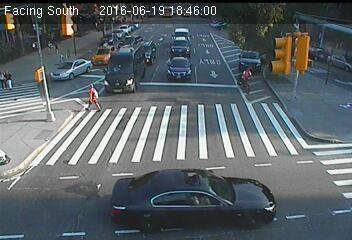neg: (232, 61, 258, 96), (178, 171, 201, 201), (291, 24, 309, 49), (265, 142, 283, 166), (171, 24, 188, 47), (7, 114, 22, 134), (171, 93, 184, 110), (59, 128, 72, 144)
pos: (80, 80, 105, 112), (49, 37, 62, 55), (44, 38, 56, 54)
